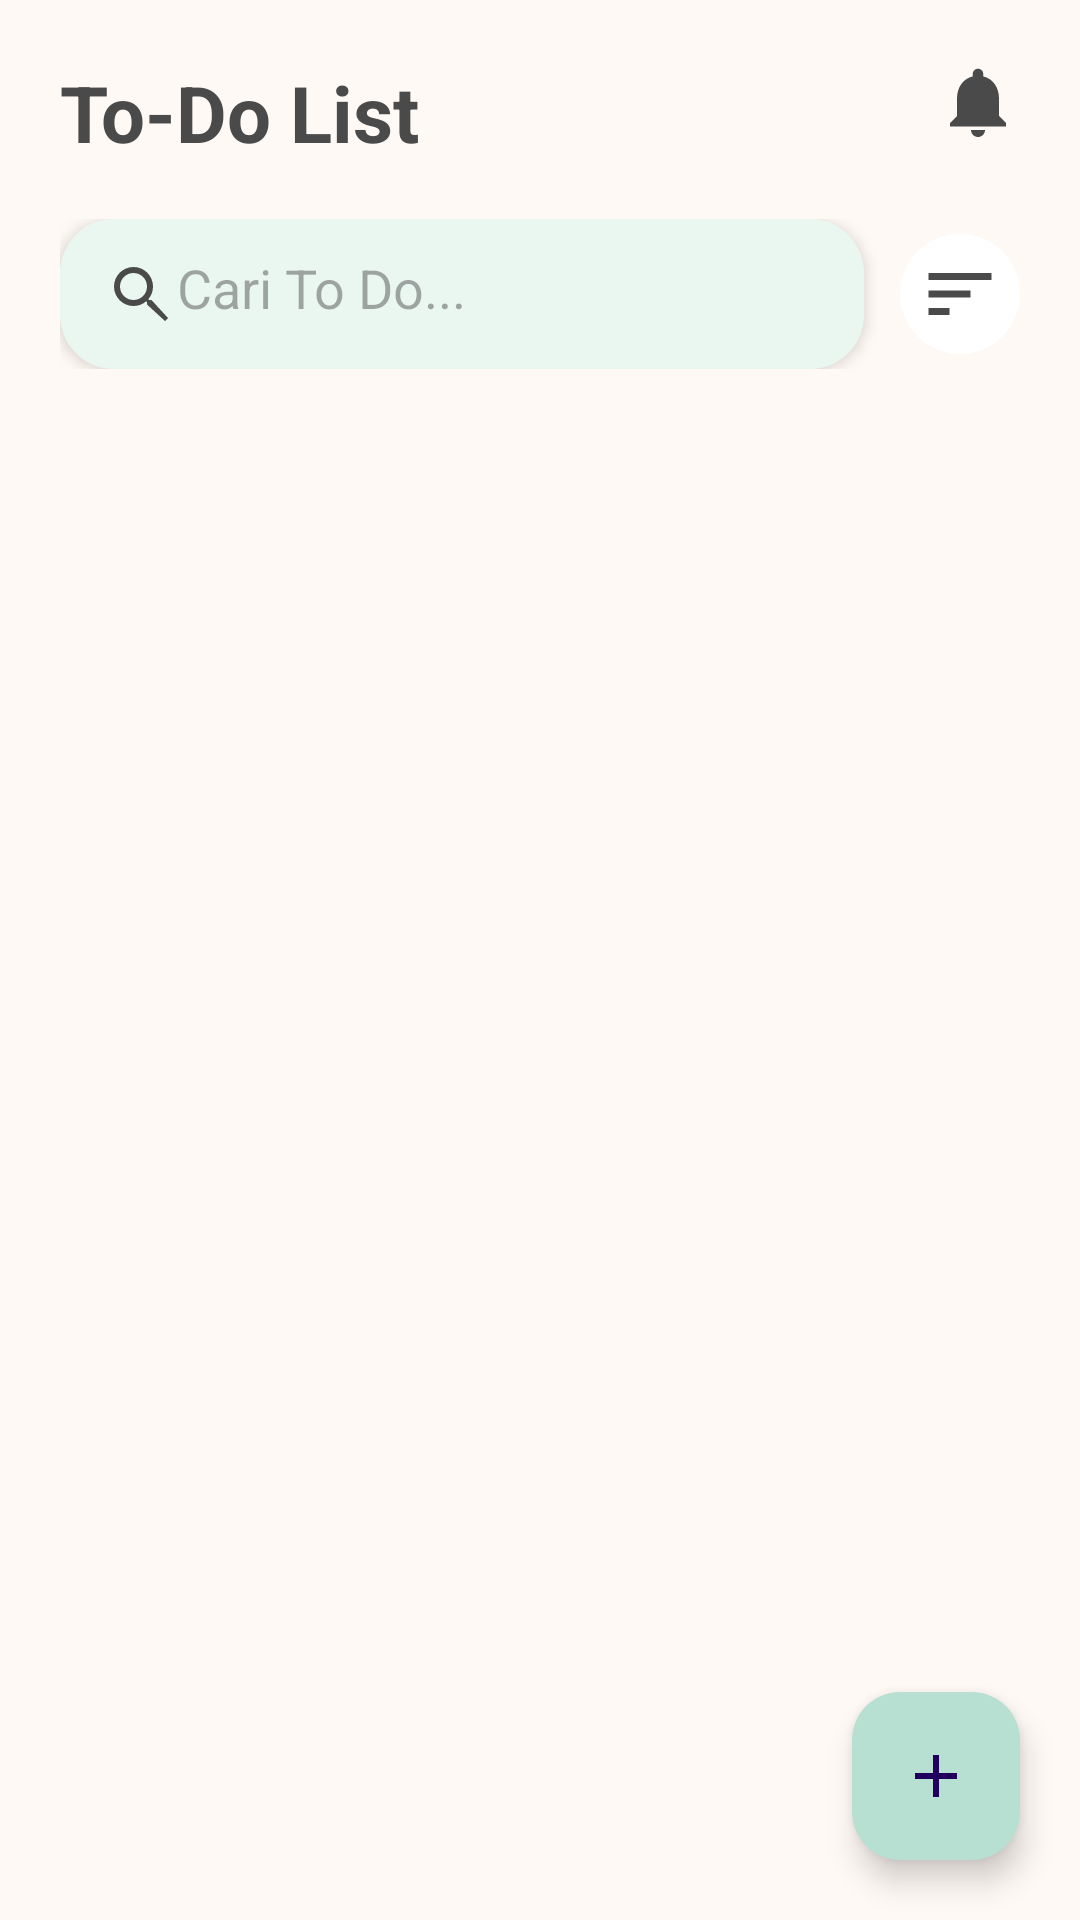

Named icons in this screenshot (1080×1920) and their bounding boxes, (x1, y1, x2, y2):
add: (852, 1692, 1020, 1860)
notifications: (950, 68, 1006, 137)
sort: (900, 234, 1020, 354)
